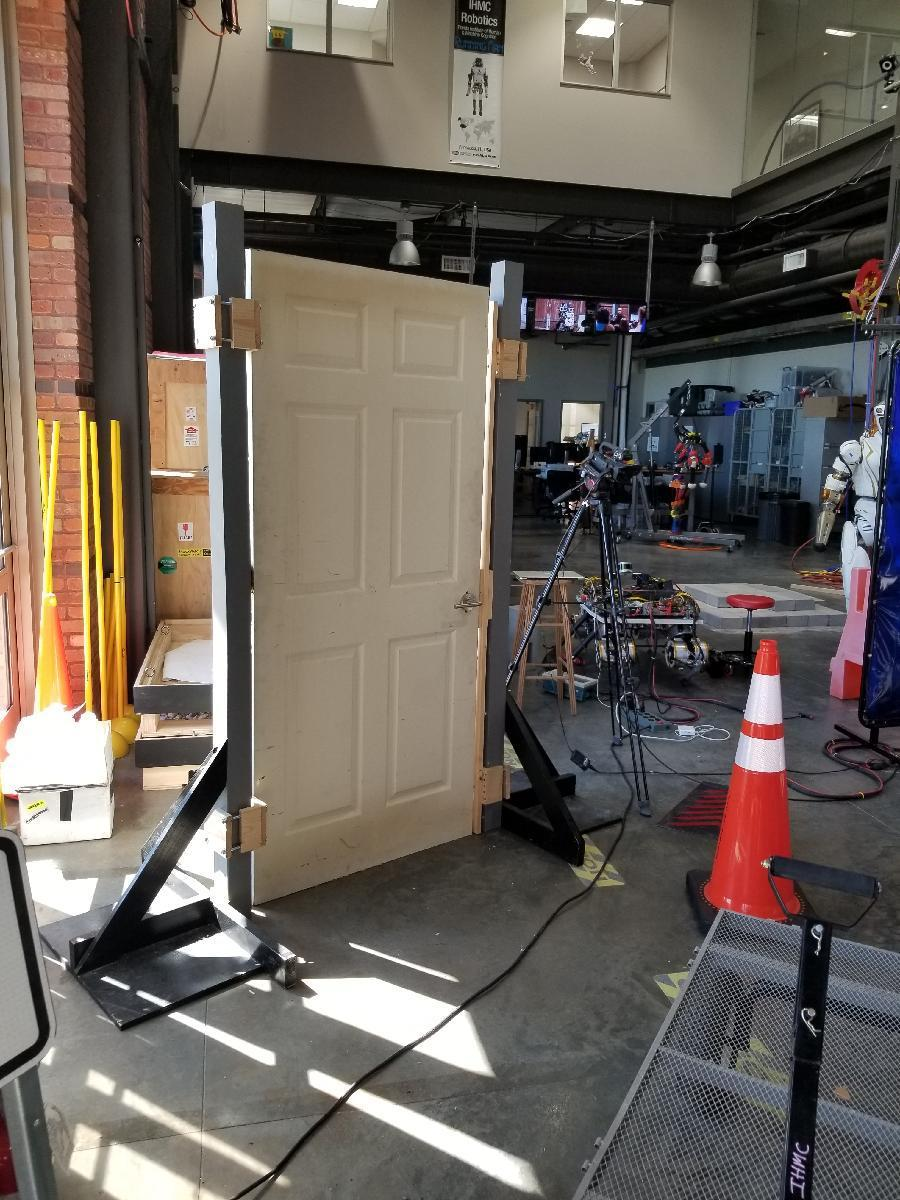door: (249, 245, 494, 909)
handle: (452, 590, 484, 616)
